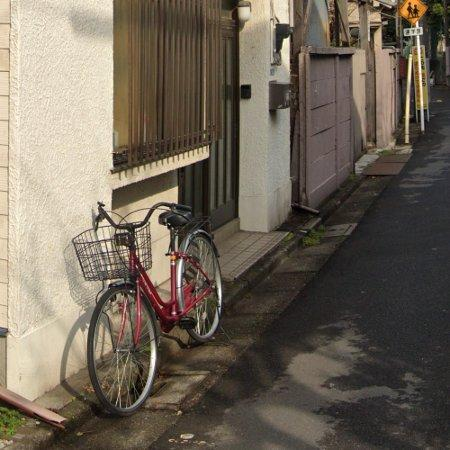bicycles: (72, 202, 223, 417)
